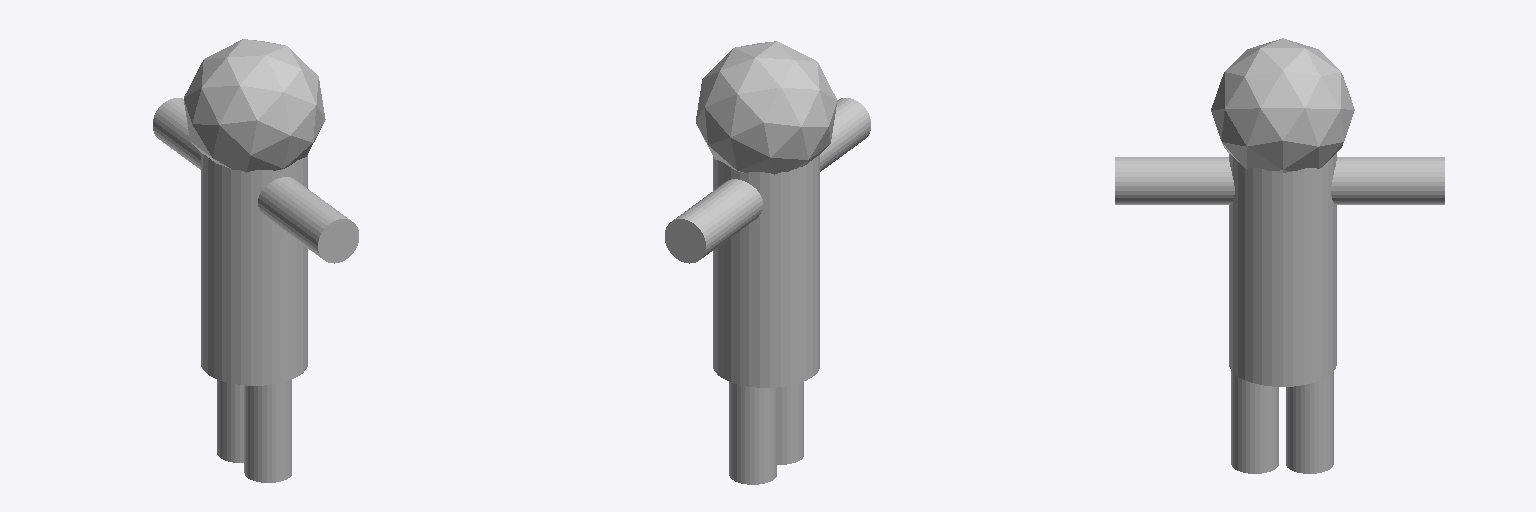
The model's file is baby.obj.
The picture shows the model from 3 angles: view 1: azimuth 30°, elevation 25°; view 2: azimuth 150°, elevation 25°; view 3: azimuth 270°, elevation 25°; orthographic projection.
Visible parts, largest first — view 1: Cylinder, Icosphere, Cylinder.002, Cylinder.003, Cylinder.004, Cylinder.001; view 2: Cylinder, Icosphere, Cylinder.001, Cylinder.004, Cylinder.003, Cylinder.002; view 3: Cylinder, Icosphere, Cylinder.002, Cylinder.001, Cylinder.003, Cylinder.004.
Boxes of the visible parts, x1=… form: Cylinder: x1=201, y1=153, x2=307, y2=385; Icosphere: x1=184, y1=39, x2=325, y2=172; Cylinder.002: x1=258, y1=177, x2=358, y2=263; Cylinder.003: x1=244, y1=380, x2=291, y2=482; Cylinder.004: x1=217, y1=380, x2=243, y2=462; Cylinder.001: x1=153, y1=98, x2=200, y2=169; Cylinder: x1=713, y1=155, x2=819, y2=387; Icosphere: x1=696, y1=41, x2=837, y2=174; Cylinder.001: x1=665, y1=179, x2=762, y2=263; Cylinder.004: x1=729, y1=382, x2=776, y2=484; Cylinder.003: x1=777, y1=382, x2=803, y2=464; Cylinder.002: x1=820, y1=98, x2=870, y2=171; Cylinder: x1=1229, y1=153, x2=1336, y2=386; Icosphere: x1=1211, y1=38, x2=1354, y2=172; Cylinder.002: x1=1115, y1=157, x2=1234, y2=204; Cylinder.001: x1=1331, y1=157, x2=1444, y2=204; Cylinder.003: x1=1231, y1=371, x2=1278, y2=473; Cylinder.004: x1=1286, y1=372, x2=1333, y2=473.
Size of the model in its own units: 1.2 by 3.82 by 2.76.